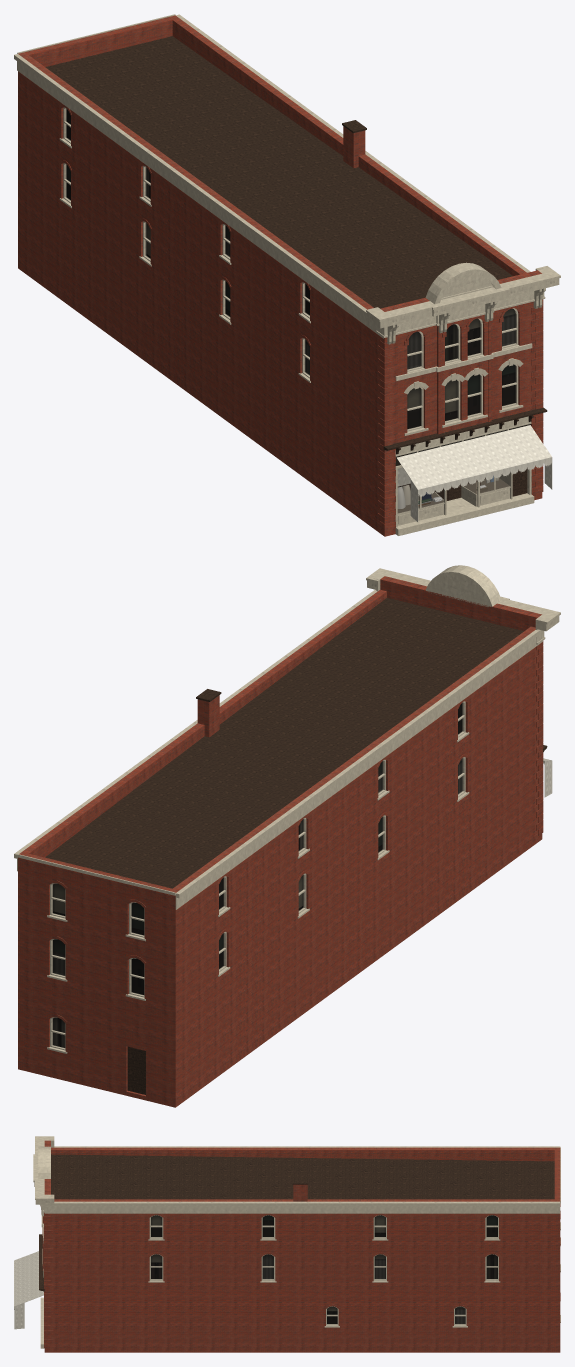
Rendered from nevius-store.glb.
The picture shows the model from 3 angles, top to bottom: view 1: azimuth 30°, elevation 25°; view 2: azimuth 150°, elevation 25°; view 3: azimuth 270°, elevation 25°; orthographic projection. The views are drawn at different scales.
Parts seen in each view (by area): view 1: NeviusStore; view 2: NeviusStore; view 3: NeviusStore.
Part boxes in pixels (<box>): NeviusStore: <box>14,14,560,536</box>; NeviusStore: <box>14,565,560,1107</box>; NeviusStore: <box>14,1136,560,1352</box>.
Size of the model in its own units: 9.2 by 12.15 by 34.21.
Materials: 8 (6 with a texture image).
